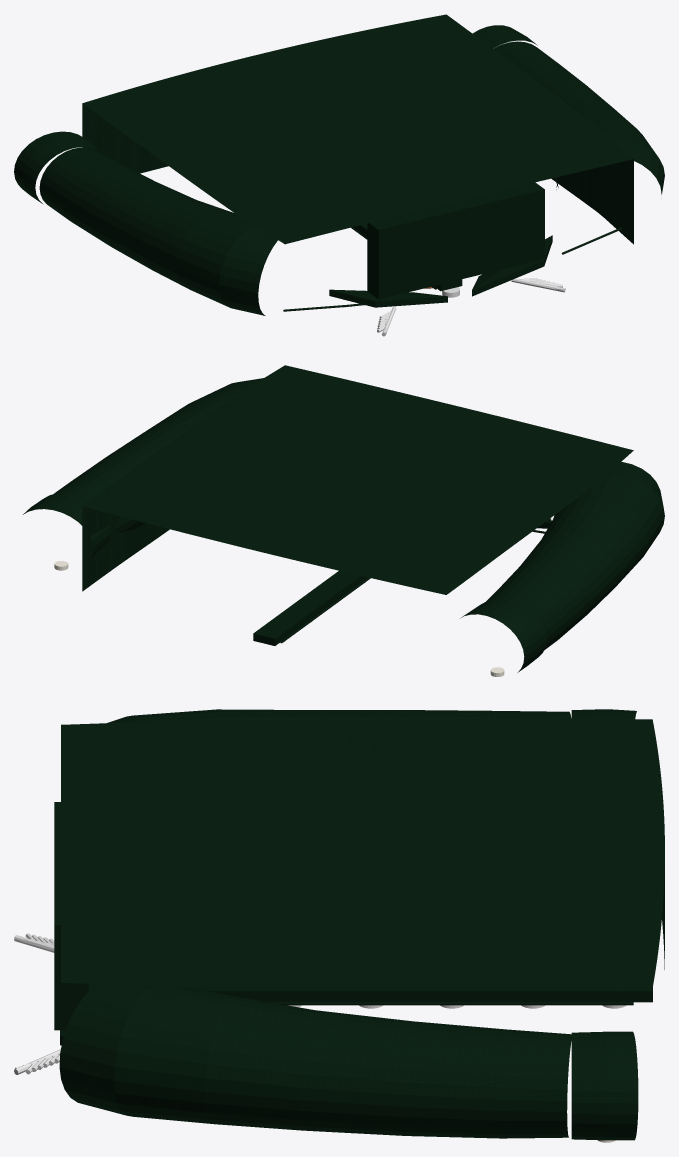
Rendered from oxford_shirt_visualization_master.glb.
3 views of the same model, one above another, from view 1: azimuth 30°, elevation 25°; view 2: azimuth 150°, elevation 25°; view 3: azimuth 270°, elevation 25° (orthographic). The views are drawn at different scales.
Visible parts, largest first — view 1: shirt_body, sleeve_left, collar_band, sleeve_right, cuff_left, collar_left, collar_right, cuff_right; view 2: shirt_body, sleeve_left, sleeve_right, placket, cuff_left, cuff_right; view 3: shirt_body, sleeve_right, cuff_right, placket, sleeve_left, collar_band, placket_edge_R, cuff_left.
Boxes of the visible parts, bbox=[...] form: shirt_body: bbox=[82, 14, 633, 244]; sleeve_left: bbox=[39, 147, 277, 315]; collar_band: bbox=[367, 182, 544, 299]; sleeve_right: bbox=[493, 41, 664, 194]; cuff_left: bbox=[14, 131, 101, 204]; collar_left: bbox=[329, 289, 447, 307]; collar_right: bbox=[472, 235, 552, 296]; cuff_right: bbox=[472, 25, 537, 48]; shirt_body: bbox=[82, 365, 633, 594]; sleeve_left: bbox=[486, 462, 664, 650]; sleeve_right: bbox=[53, 378, 263, 532]; placket: bbox=[253, 570, 368, 645]; cuff_left: bbox=[460, 599, 546, 672]; cuff_right: bbox=[23, 493, 110, 558]; shirt_body: bbox=[61, 719, 664, 988]; sleeve_right: bbox=[59, 984, 571, 1138]; cuff_right: bbox=[571, 1031, 638, 1140]; placket: bbox=[88, 984, 652, 1002]; sleeve_left: bbox=[107, 709, 571, 723]; collar_band: bbox=[54, 802, 88, 1030]; placket_edge_R: bbox=[270, 1002, 633, 1005]; cuff_left: bbox=[571, 709, 636, 719].
Bounding box in the file's own units: 9.4 × 1.91 × 6.82.
4 materials, 2 textured.
